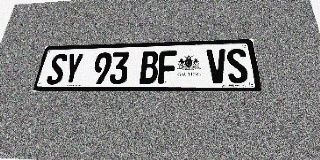3: (109, 52, 129, 84)
9: (91, 52, 113, 84)
B: (139, 51, 159, 84)
F: (158, 50, 177, 84)
S: (226, 48, 249, 83), (45, 54, 68, 85)
V: (206, 49, 228, 83)
Y: (62, 53, 84, 85)
